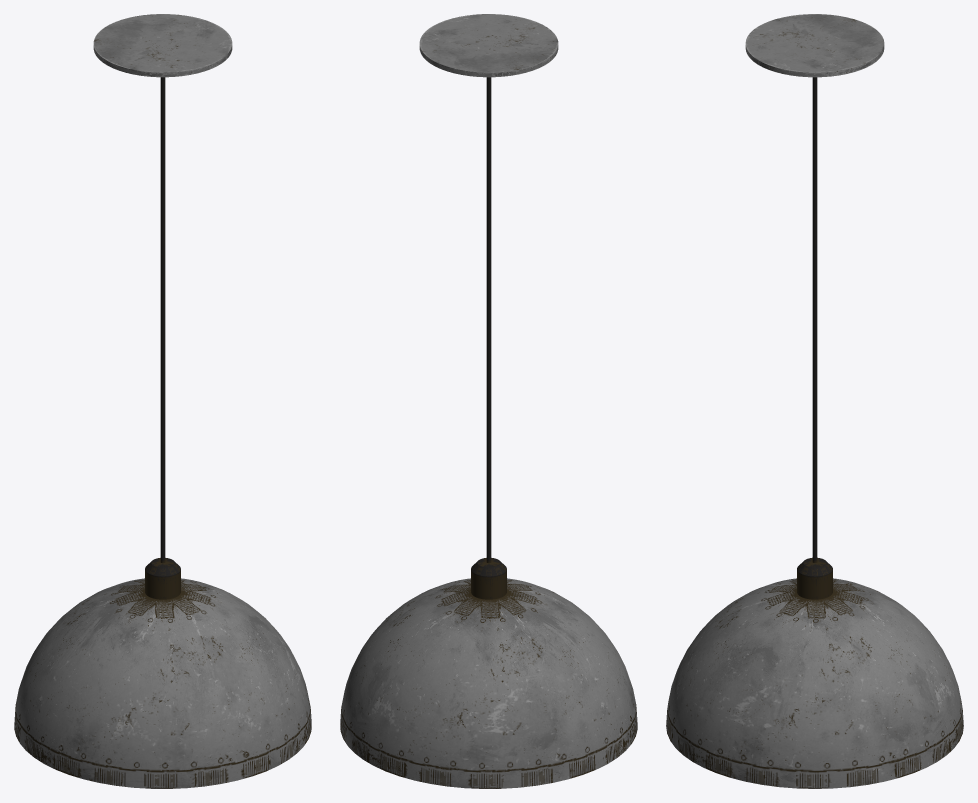
File: Gate_light.fbx
3 renders of one model, left to right at view 1: azimuth 30°, elevation 25°; view 2: azimuth 150°, elevation 25°; view 3: azimuth 270°, elevation 25°, orthographic.
Visible parts, largest first — view 1: Object_2; view 2: Object_2; view 3: Object_2.
Part boxes in pixels (x1,y1,x2,y2): Object_2: [14, 14, 311, 788]; Object_2: [340, 14, 637, 788]; Object_2: [666, 14, 963, 788].
Size of the model in its own units: 158 by 400 by 158.
